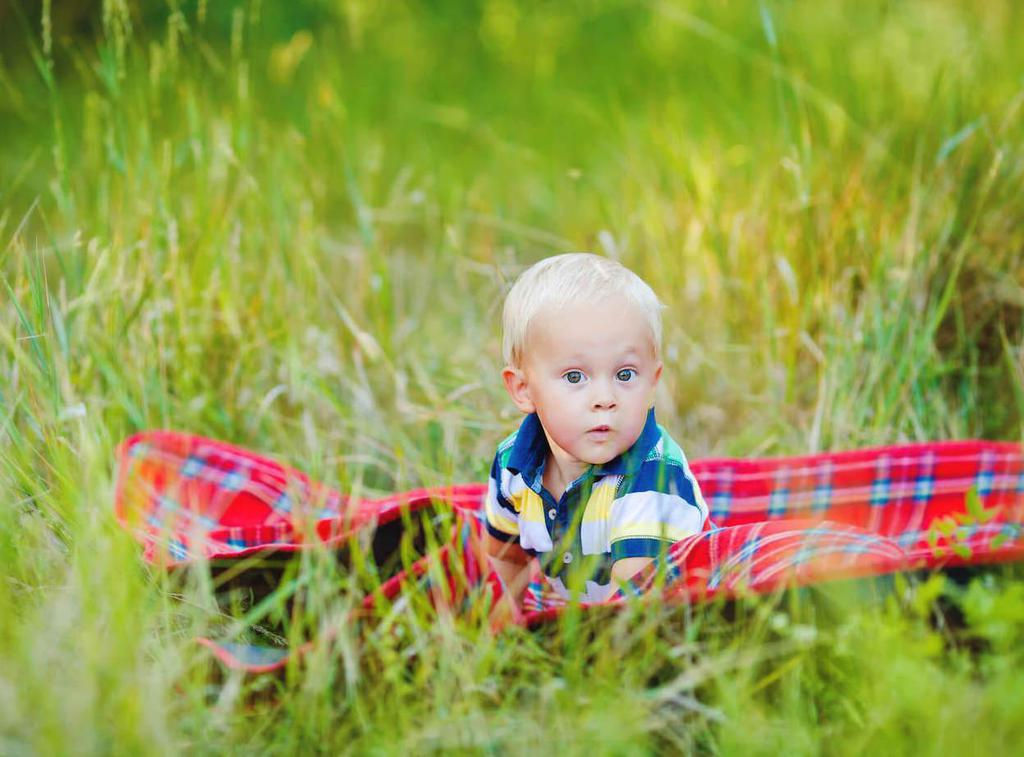child: (449, 250, 730, 631)
